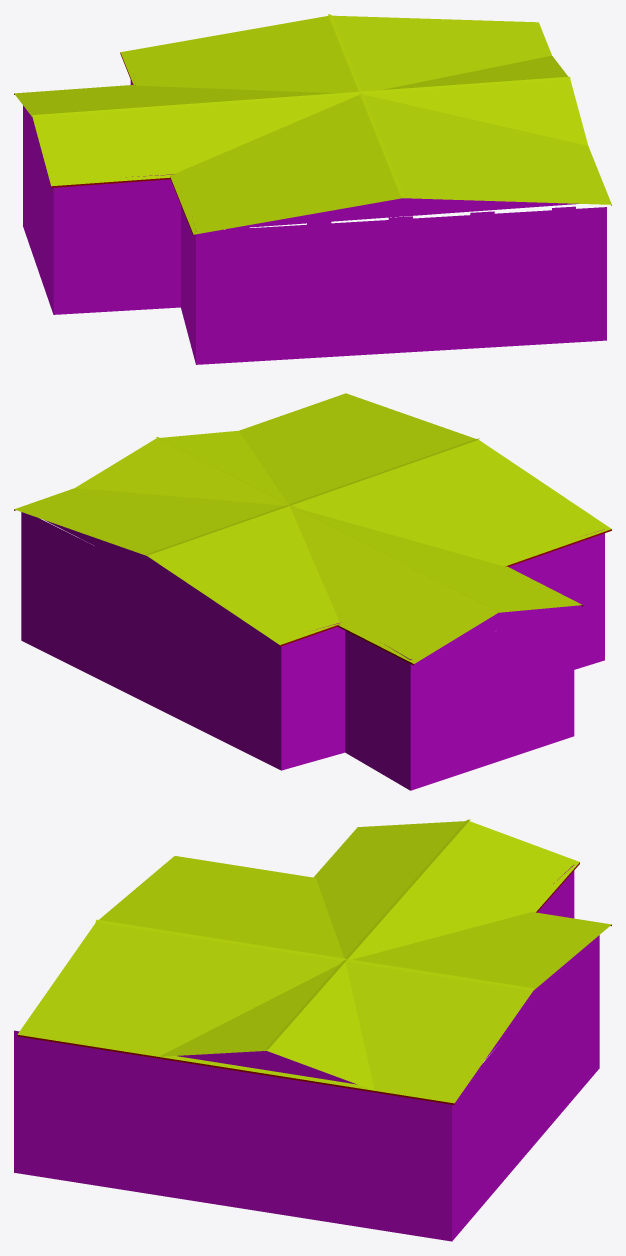
Rendered from ces_64.glb.
3 renders of one model, top to bottom at view 1: azimuth 30°, elevation 25°; view 2: azimuth 150°, elevation 25°; view 3: azimuth 270°, elevation 25°, orthographic. The views are drawn at different scales.
Visible parts, largest first — view 1: ces_64; view 2: ces_64; view 3: ces_64.
Boxes of the visible parts, left/top/right/bottom form: ces_64: left=14, top=14, right=611, bottom=364; ces_64: left=14, top=393, right=611, bottom=790; ces_64: left=14, top=819, right=611, bottom=1241.
Size of the model in its own units: 39.83 by 11.16 by 36.35.
